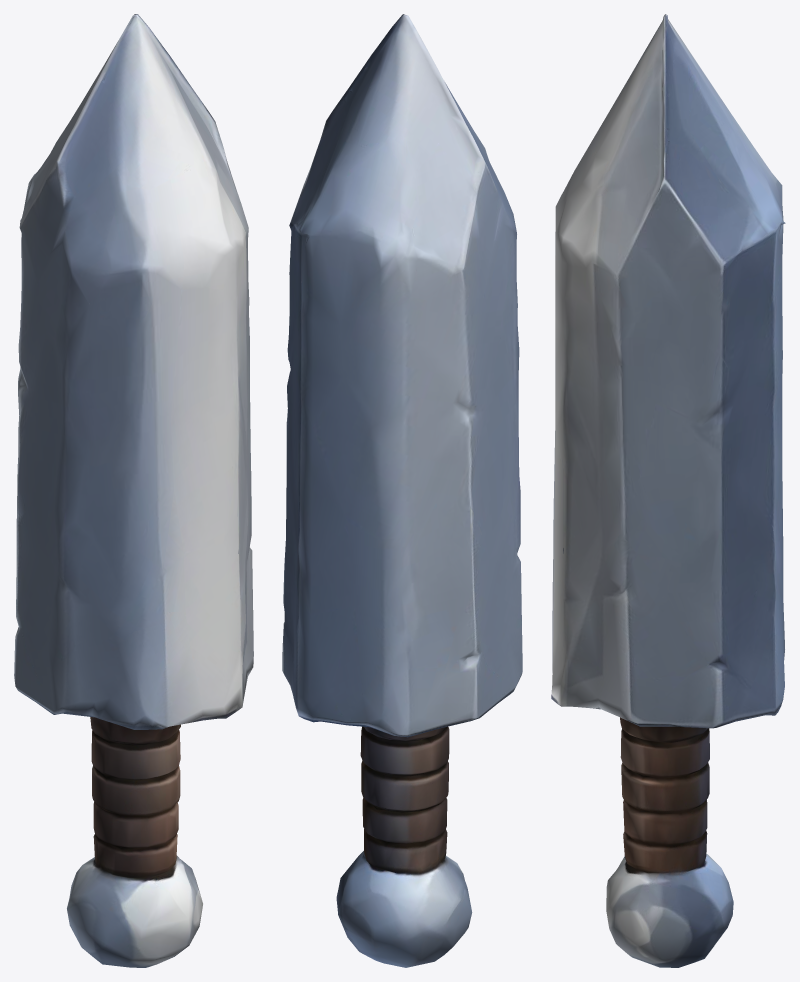
The model's file is gear_weapon_n_2.glb.
The picture shows the model from 3 angles, left to right: view 1: azimuth 30°, elevation 25°; view 2: azimuth 150°, elevation 25°; view 3: azimuth 270°, elevation 25°; orthographic projection.
Parts seen in each view (by area): view 1: Weapon; view 2: Weapon; view 3: Weapon.
Part boxes in pixels (x1,y1,x2,y2): Weapon: (14,14,253,967); Weapon: (282,14,522,967); Weapon: (551,14,785,967).
Size of the model in its own units: 0.2107 by 0.9781 by 0.2201.
Materials: 1 (1 with a texture image).
